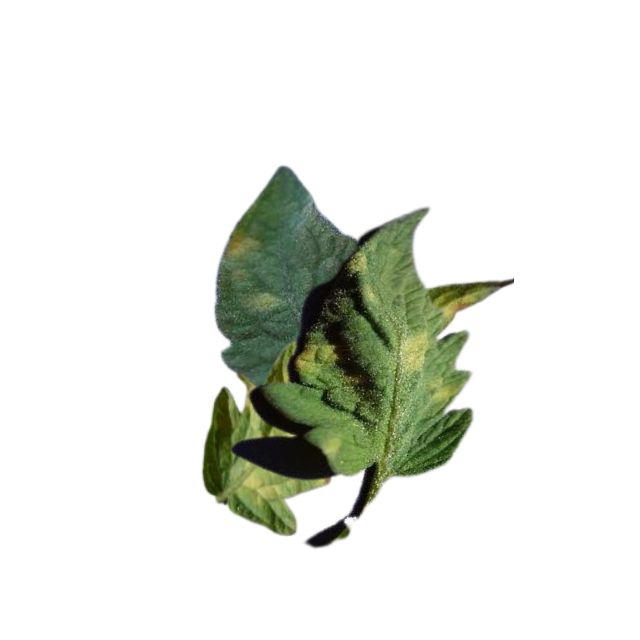Leaf_Mold: (429, 279, 509, 323), (234, 463, 282, 507), (291, 340, 337, 377), (396, 326, 429, 375), (219, 231, 261, 264), (239, 290, 285, 317), (420, 381, 467, 407)
